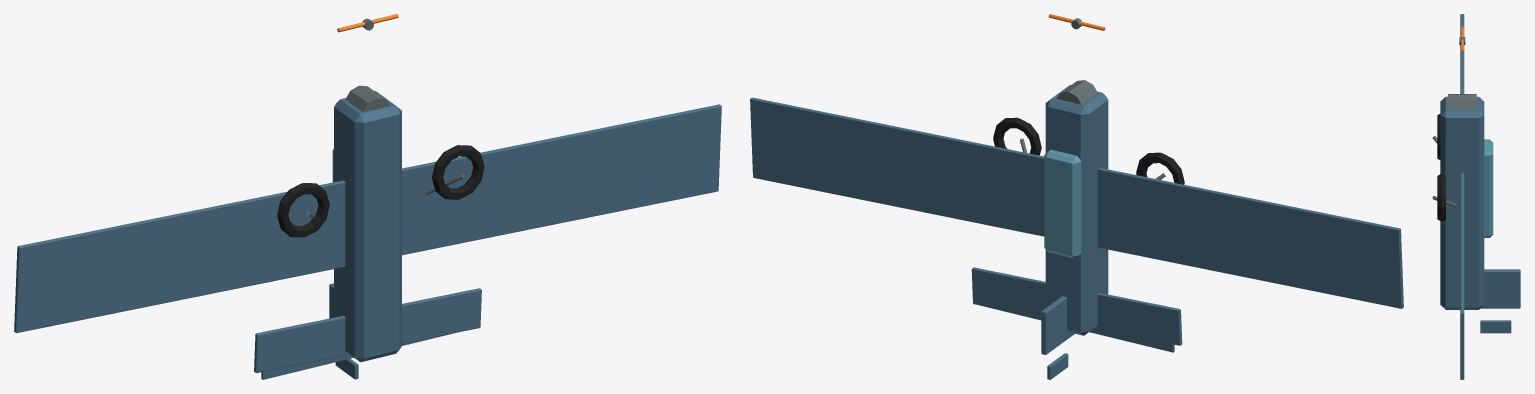
The picture shows the model from 3 angles, left to right: view 1: azimuth 30°, elevation 25°; view 2: azimuth 150°, elevation 25°; view 3: azimuth 270°, elevation 25°; orthographic projection. The views are drawn at different scales.
Visible parts, largest first — view 1: main_wing.035, fuselage.030, horizontal_tail.035, wheel_1.030, wheel_0.030, engine_mount_0.035, elevator.035; view 2: main_wing.035, fuselage.030, horizontal_tail.035, aileron_R.035, canopy.030, elevator.035, vertical_tail.035, wheel_1.030, wheel_0.030, engine_mount_0.035; view 3: fuselage.030, vertical_tail.035, main_wing.035, canopy.030, rudder.035, engine_mount_0.035, wheel_1.030, wheel_0.030.
Boxes of the visible parts, left/top/right/bottom form: main_wing.035: left=14, top=104, right=721, bottom=333; fuselage.030: left=334, top=90, right=401, bottom=362; horizontal_tail.035: left=254, top=288, right=481, bottom=372; wheel_1.030: left=432, top=145, right=484, bottom=199; wheel_0.030: left=277, top=183, right=329, bottom=237; engine_mount_0.035: left=345, top=85, right=390, bottom=112; elevator.035: left=261, top=333, right=454, bottom=379; main_wing.035: left=750, top=97, right=1403, bottom=308; fuselage.030: left=1045, top=85, right=1108, bottom=335; horizontal_tail.035: left=971, top=267, right=1182, bottom=345; aileron_R.035: left=757, top=121, right=925, bottom=185; canopy.030: left=1044, top=149, right=1081, bottom=258; elevator.035: left=978, top=285, right=1174, bottom=352; vertical_tail.035: left=1041, top=296, right=1074, bottom=354; wheel_1.030: left=993, top=117, right=1041, bottom=155; wheel_0.030: left=1136, top=152, right=1184, bottom=184; engine_mount_0.035: left=1056, top=80, right=1097, bottom=104; fuselage.030: left=1440, top=96, right=1484, bottom=309; vertical_tail.035: left=1480, top=269, right=1520, bottom=308; main_wing.035: left=1460, top=14, right=1464, bottom=379; canopy.030: left=1484, top=139, right=1493, bottom=237; rudder.035: left=1480, top=320, right=1511, bottom=333; engine_mount_0.035: left=1448, top=94, right=1476, bottom=108; wheel_1.030: left=1437, top=173, right=1445, bottom=221; wheel_0.030: left=1437, top=114, right=1440, bottom=159.
Bounding box in the file's own units: 20.6 × 10.24 × 2.77.
